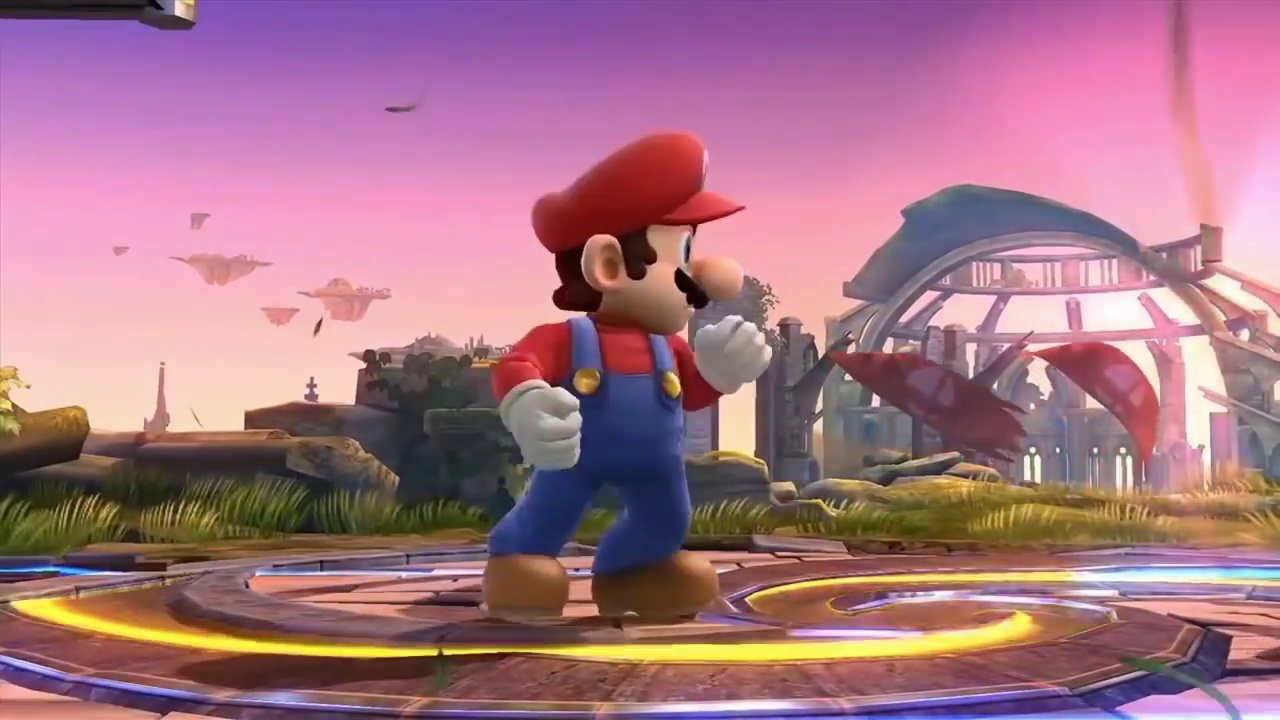Mario: (482, 130, 773, 614)
